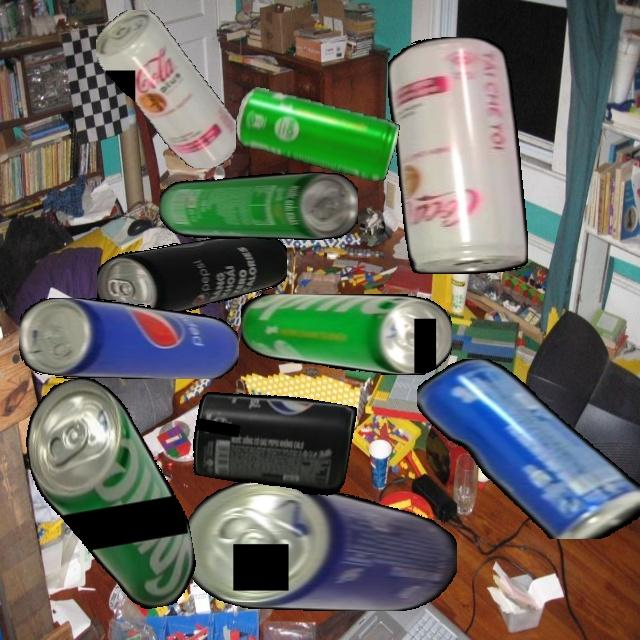debris: (17, 365, 202, 624), (417, 358, 640, 539), (183, 479, 457, 611), (388, 36, 528, 275), (95, 10, 236, 168), (188, 381, 357, 500), (19, 297, 239, 379), (230, 84, 402, 184), (240, 294, 452, 375), (97, 232, 287, 320), (158, 172, 358, 240)
